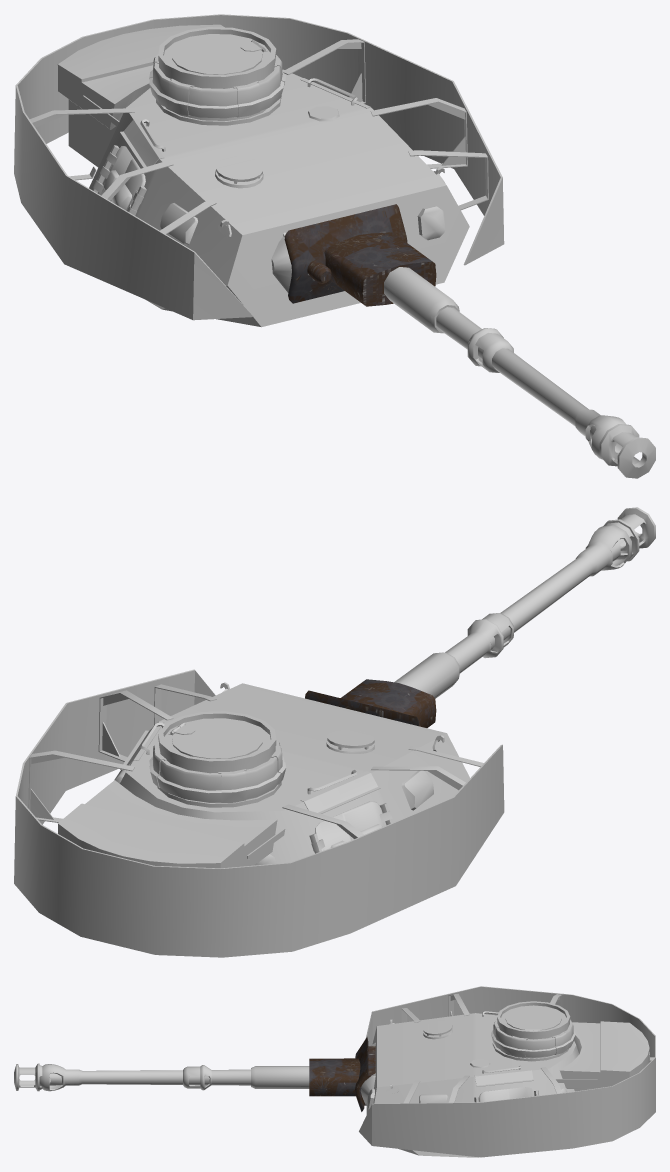
3 renders of one model, top to bottom at view 1: azimuth 30°, elevation 25°; view 2: azimuth 150°, elevation 25°; view 3: azimuth 270°, elevation 25°, orthographic. The views are drawn at different scales.
Visible parts, largest first — view 1: turret, turret_armor, barrel_mainPart (×2), turret_type1_base, barrel_ (×2), turret_type1_Door, barrel_03; view 2: turret_armor, turret, turret_type1_base, barrel_ (×2), barrel_mainPart (×2), turret_type1_Door, barrel_03; view 3: turret_armor, turret, barrel_mainPart (×3), barrel_ (×2), turret_type1_base, turret_type1_Door, barrel_03.
Part boxes in pixels (box(x1,y1,x2,y2)): turret: box(57, 24, 469, 327); turret_armor: box(14, 14, 504, 320); barrel_mainPart (×2): box(284, 204, 459, 326); turret_type1_base: box(149, 27, 285, 125); barrel_ (×2): box(436, 307, 655, 478); turret_type1_Door: box(172, 36, 264, 74); barrel_03: box(467, 328, 513, 372); turret_armor: box(14, 669, 504, 957); turret: box(58, 682, 469, 868); turret_type1_base: box(149, 711, 286, 807); barrel_ (×2): box(445, 507, 655, 673); barrel_mainPart (×2): box(305, 652, 459, 727); turret_type1_Door: box(171, 720, 262, 758); barrel_03: box(467, 613, 513, 658); turret_armor: box(359, 986, 655, 1157); turret: box(360, 1011, 649, 1157); barrel_mainPart (×3): box(251, 1037, 375, 1111); barrel_ (×2): box(14, 1063, 250, 1091); turret_type1_base: box(491, 1001, 575, 1061); turret_type1_Door: box(505, 1006, 561, 1030); barrel_03: box(183, 1065, 211, 1090).
Bounding box in the file's own units: 183 × 423 × 72.96.
